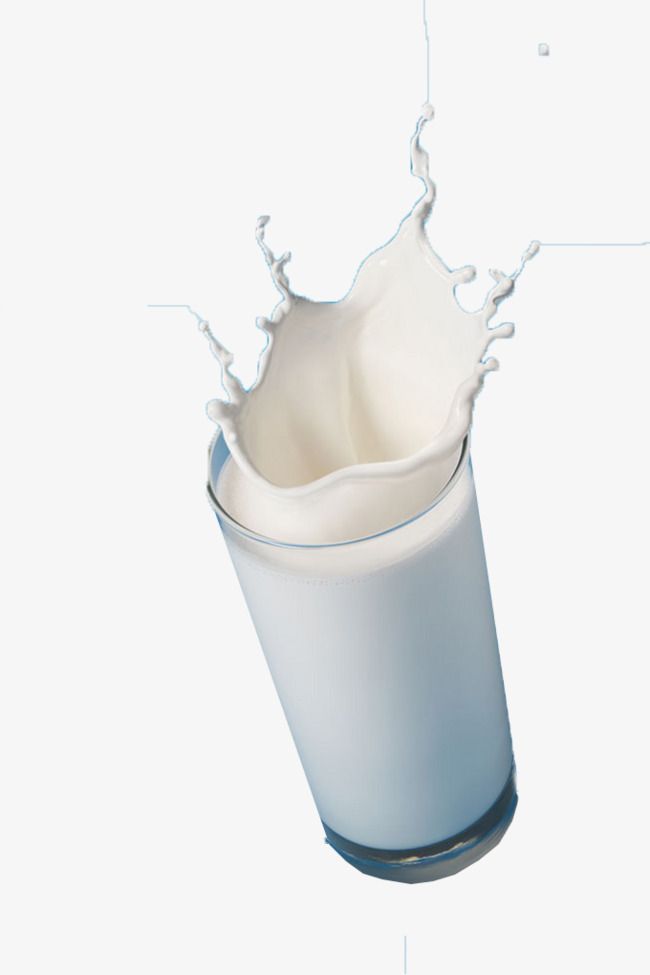glass of milk: (206, 259, 542, 890)
